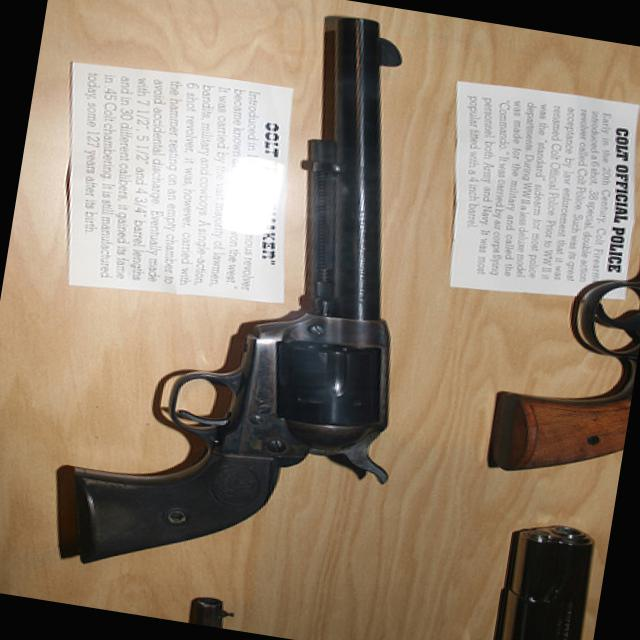handgun: (60, 0, 463, 606), (437, 503, 601, 639)
